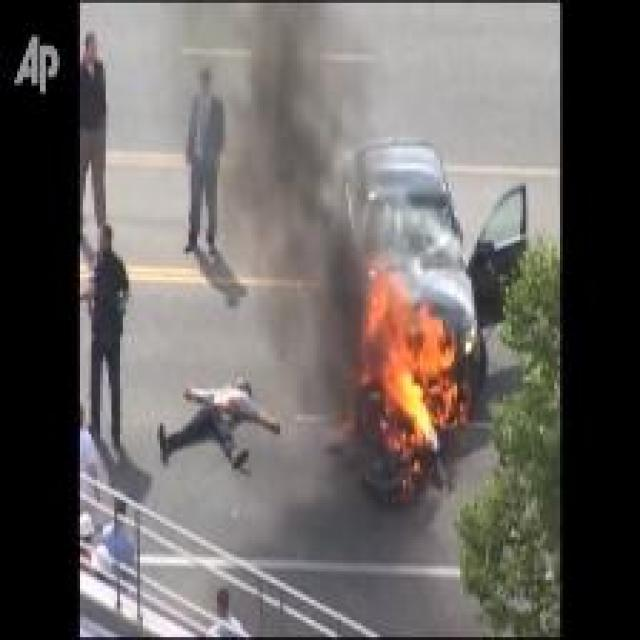Fire: (357, 255, 463, 456)
